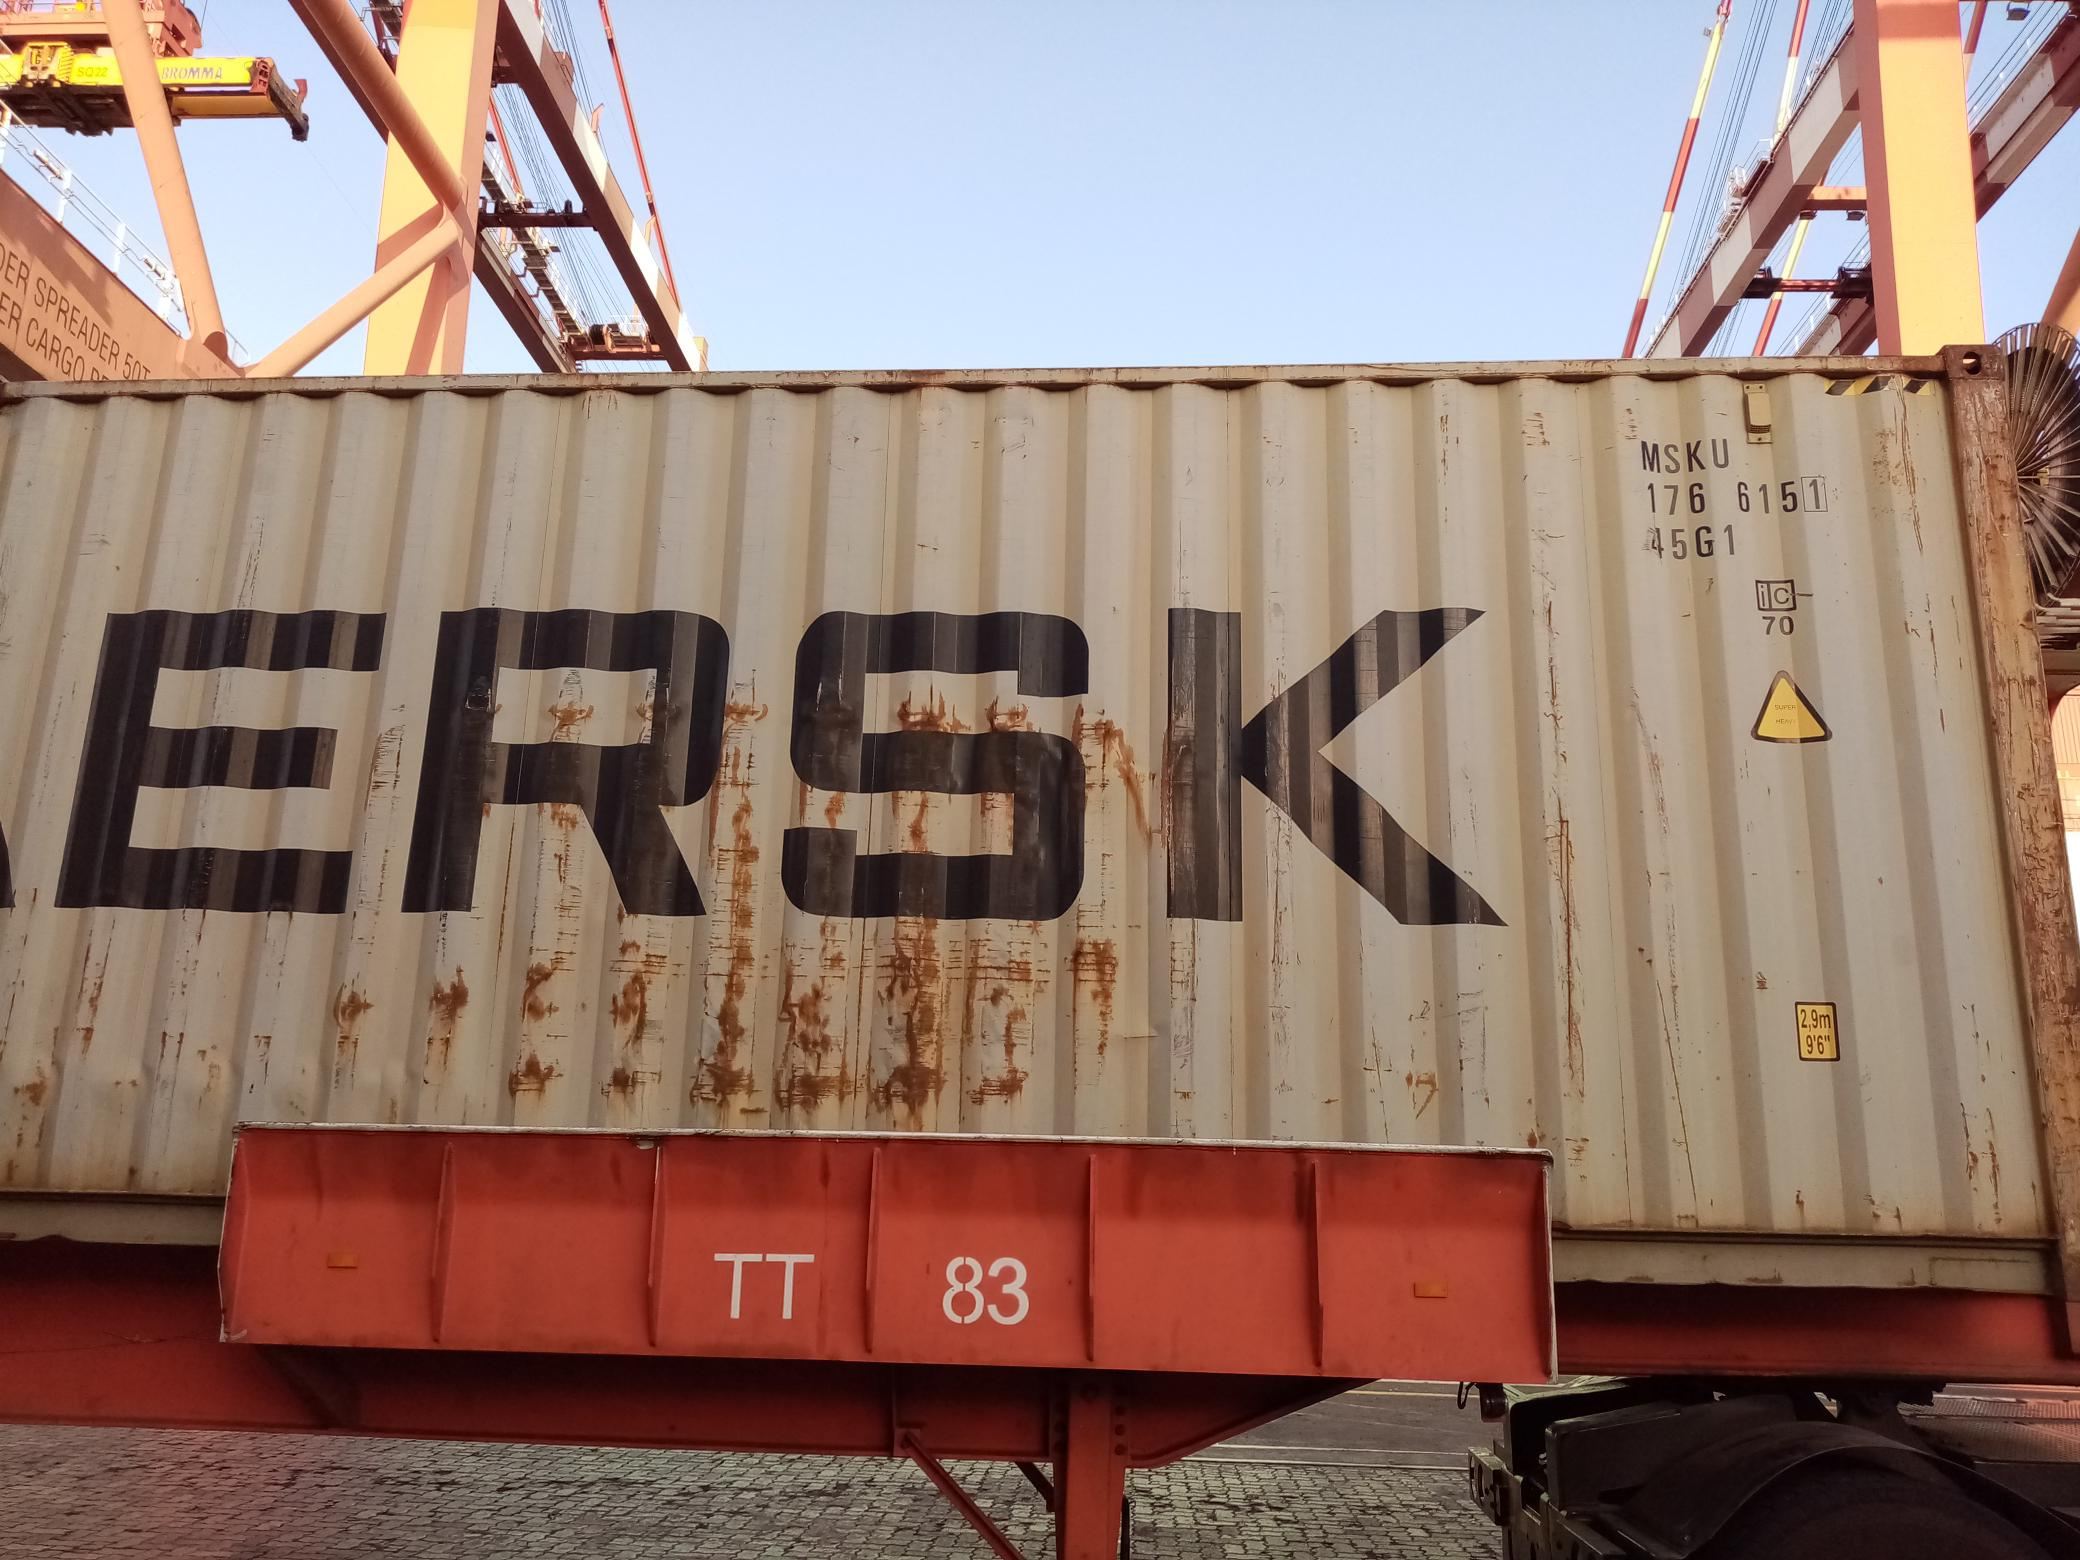rust: (293, 905, 1145, 1116)
